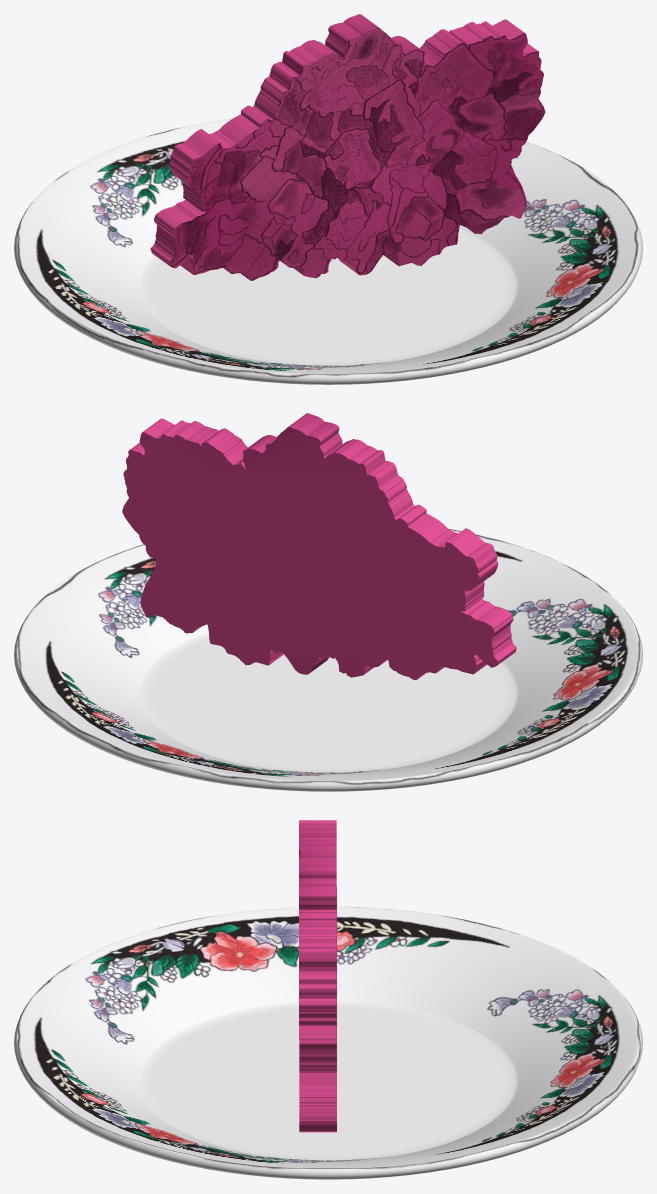
File: Ensalada de payasito.glb
3 renders of one model, top to bottom at view 1: azimuth 30°, elevation 25°; view 2: azimuth 150°, elevation 25°; view 3: azimuth 270°, elevation 25°, orthographic.
Parts seen in each view (by area): view 1: Plato.001, Ensalada de payasito; view 2: Plato.001, Ensalada de payasito; view 3: Plato.001, Ensalada de payasito.
Boxes of the visible parts, x1,y1,x2,y2 form: Plato.001: (14, 118, 642, 384); Ensalada de payasito: (150, 14, 545, 280); Plato.001: (14, 529, 642, 791); Ensalada de payasito: (122, 413, 516, 680); Plato.001: (14, 906, 642, 1179); Ensalada de payasito: (299, 820, 336, 1132).
Bounding box in the file's own units: 18.56 × 8.86 × 18.56.
2 materials, 2 textured.
